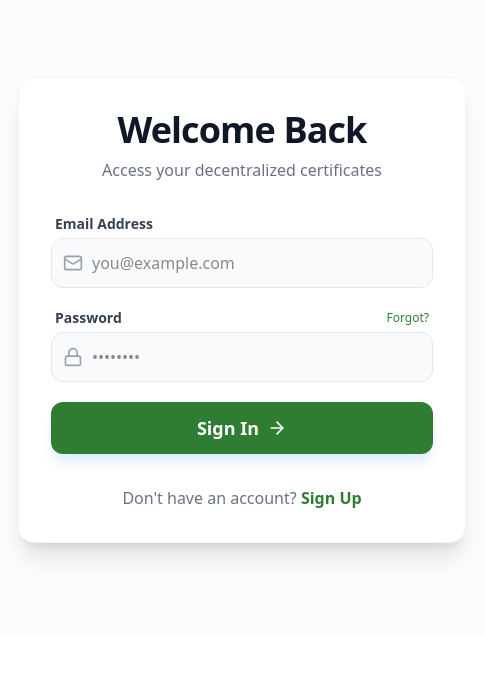
Scenario: Login Component › shows validation error for short password on signup
Step 1. Click the button "Sign Up" → click(331, 498), box [301, 486, 362, 510]
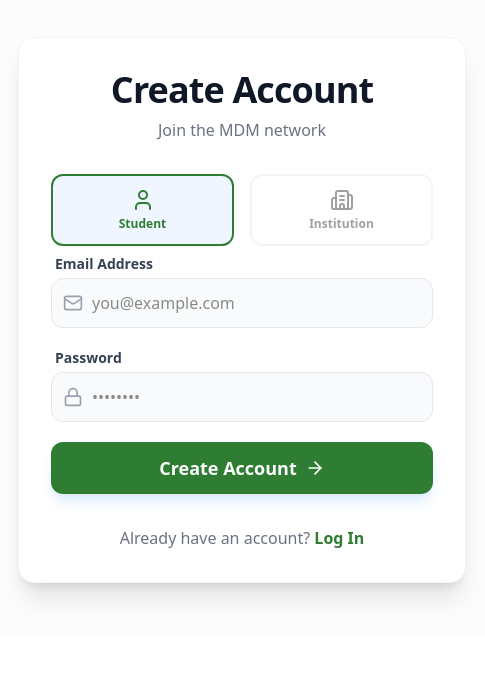
Step 2. Type "test@example.com" into the field with placeholder "you@example.com" → (242, 303), box [51, 278, 433, 328]
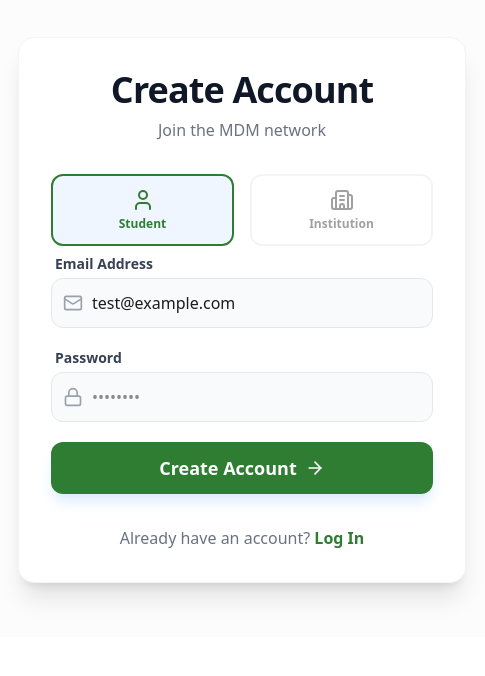
Step 3. Type "123" into the password field with placeholder "••••••••" → (242, 397), box [51, 372, 433, 422]
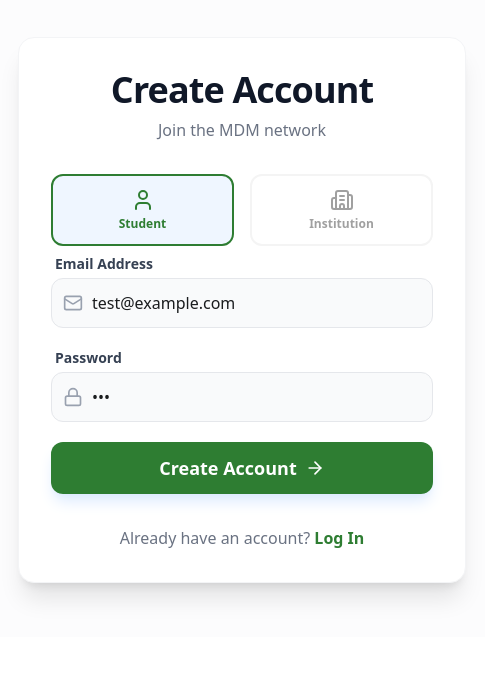
Step 4. Click the button "Create Account" → click(242, 468), box [51, 442, 433, 494]
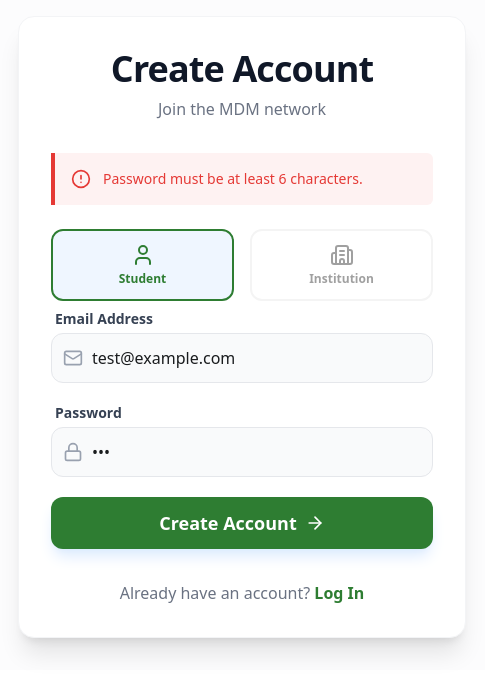
Expected: the text "Password must be at least 6 characters." is shown, [103, 169, 363, 189]
